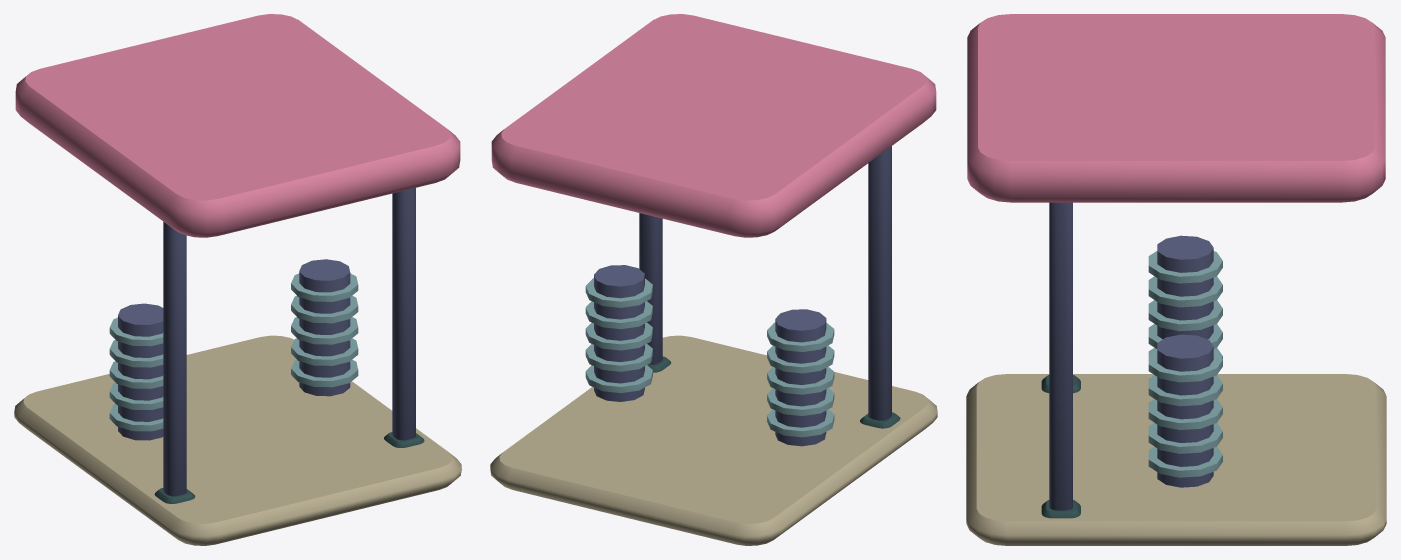
File: japan_wash_2.glb
The picture shows the model from 3 angles, left to right: view 1: azimuth 30°, elevation 25°; view 2: azimuth 150°, elevation 25°; view 3: azimuth 270°, elevation 25°; orthographic projection. The views are drawn at different scales.
Parts seen in each view (by area): view 1: JapanWash2; view 2: JapanWash2; view 3: JapanWash2.
Part boxes in pixels (x1,y1,x2,y2): JapanWash2: (14, 14, 461, 545); JapanWash2: (490, 14, 937, 545); JapanWash2: (966, 14, 1386, 545).
Bounding box in the file's own units: 2.18 × 2.51 × 2.48.
